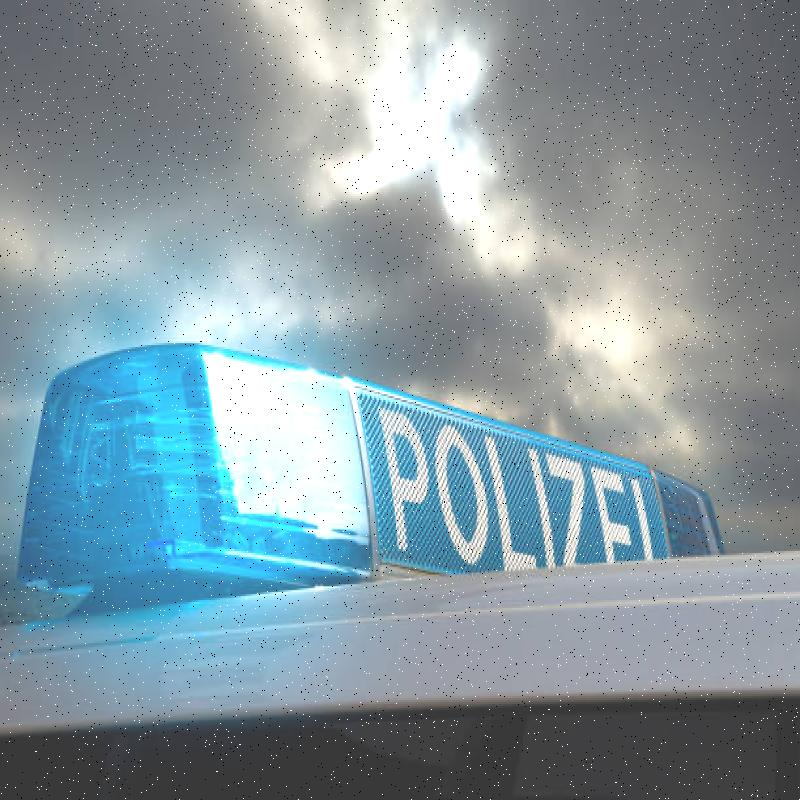AmbulanceSiren: (13, 322, 754, 626)
